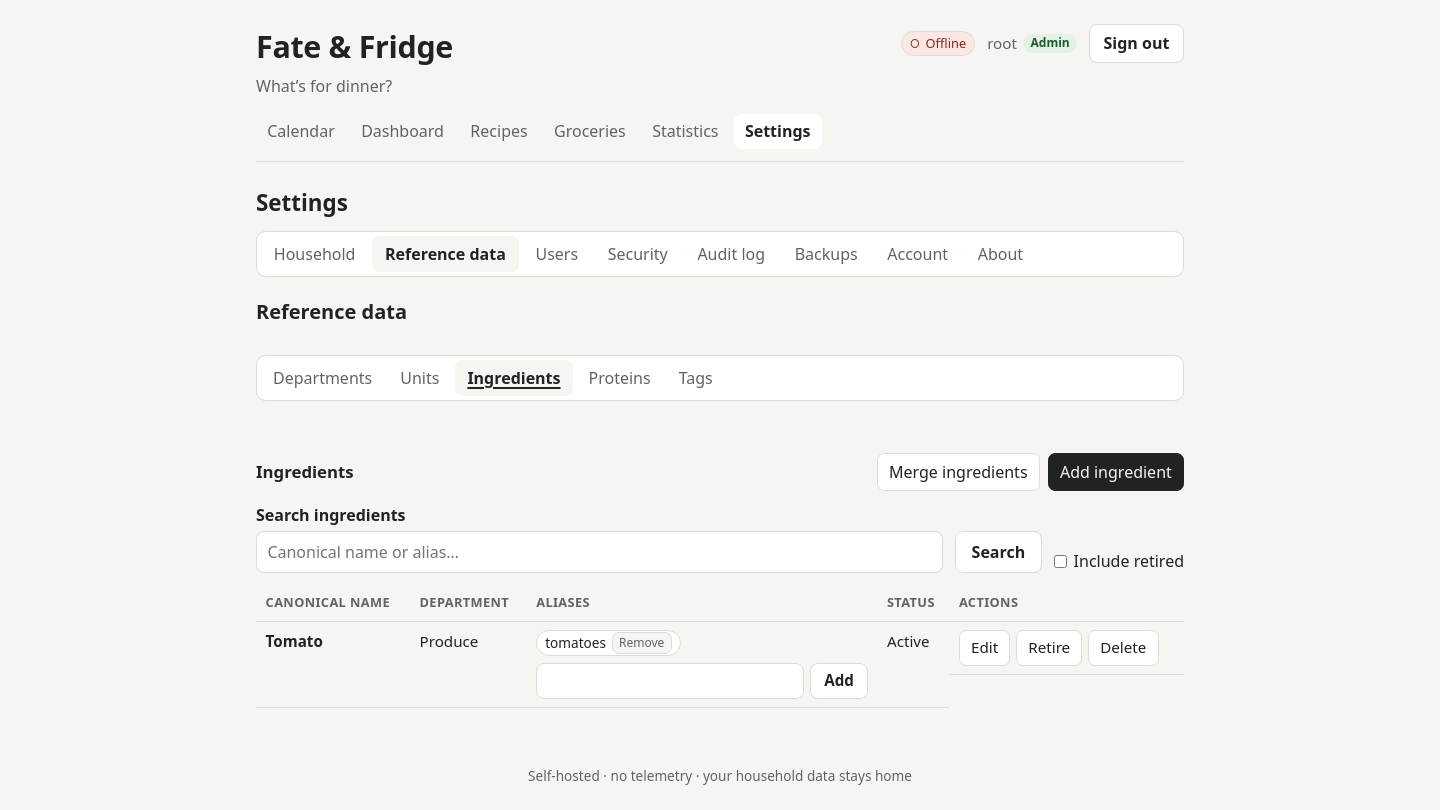
it: ingredients tab › renames and clears the department through PATCH with an explicit null
Click the button with aria-label "Edit Tomato" at (985, 648), box [959,630,1010,666]
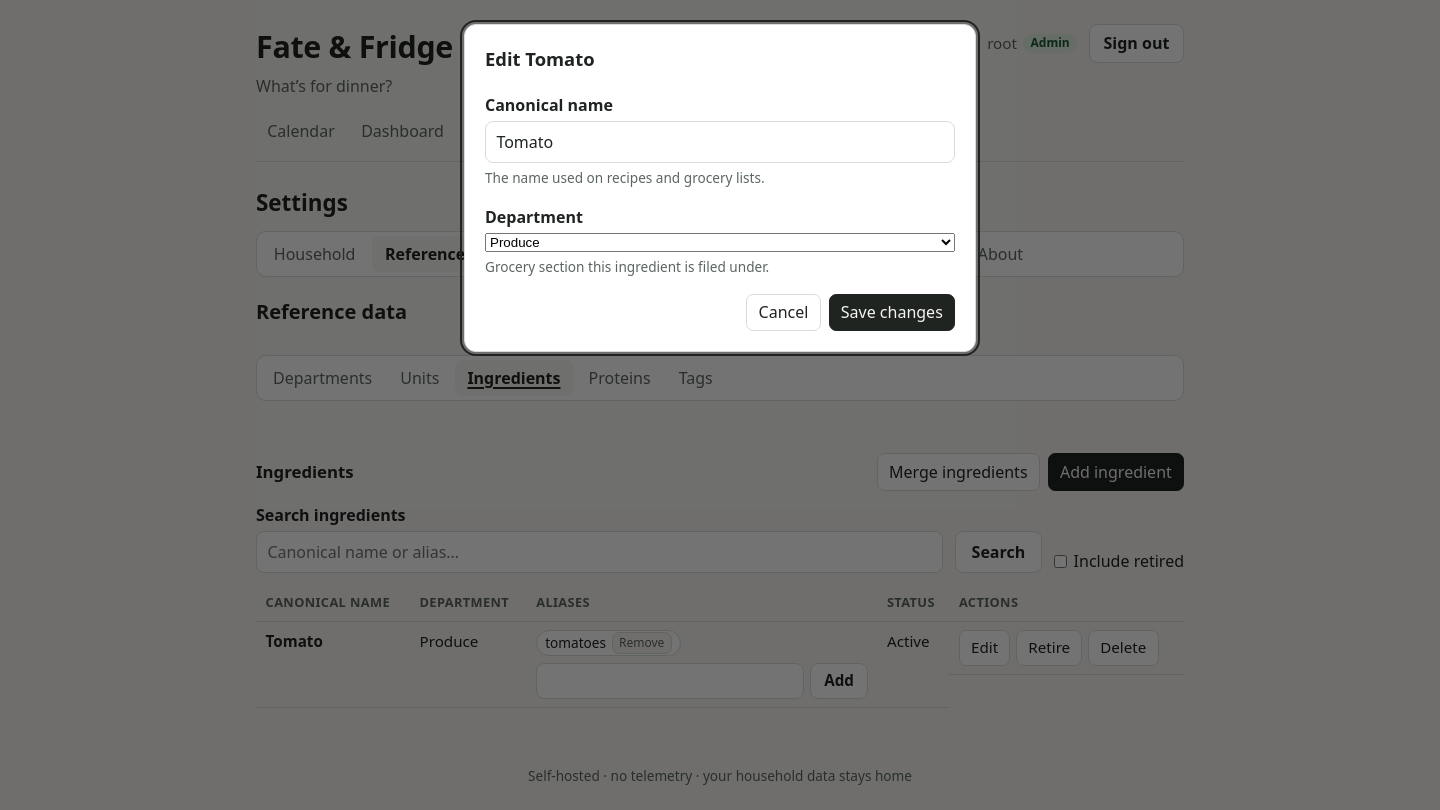
Expected: the dropdown labelled "Department" shows "Produce", [485,233,955,252]
Replace the text in the field labelled "Canonical name" with "Tomato, fresh" at (720, 142), box [485,121,955,163]
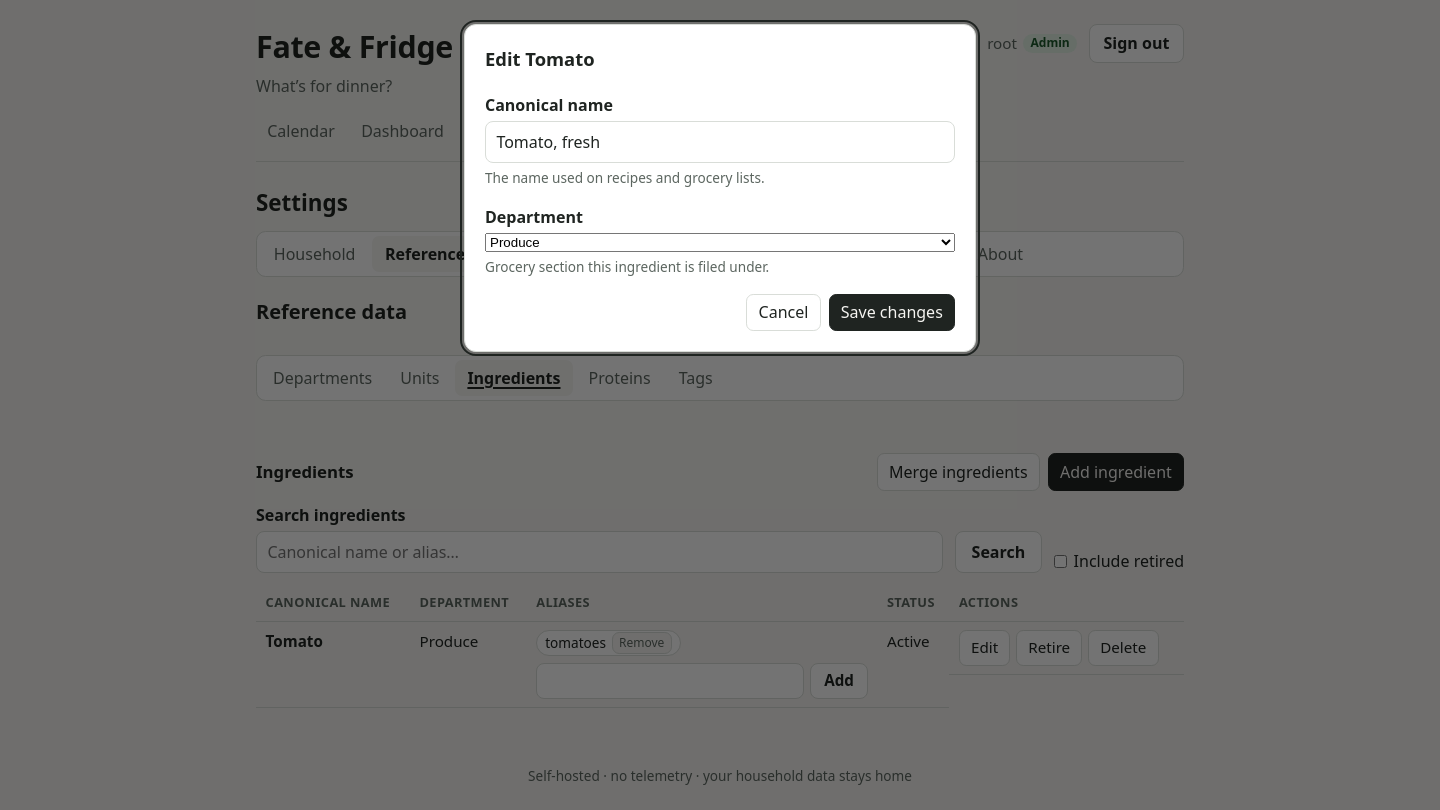
Select "No department" in the dropdown labelled "Department" at (720, 243), box [485,233,955,252]
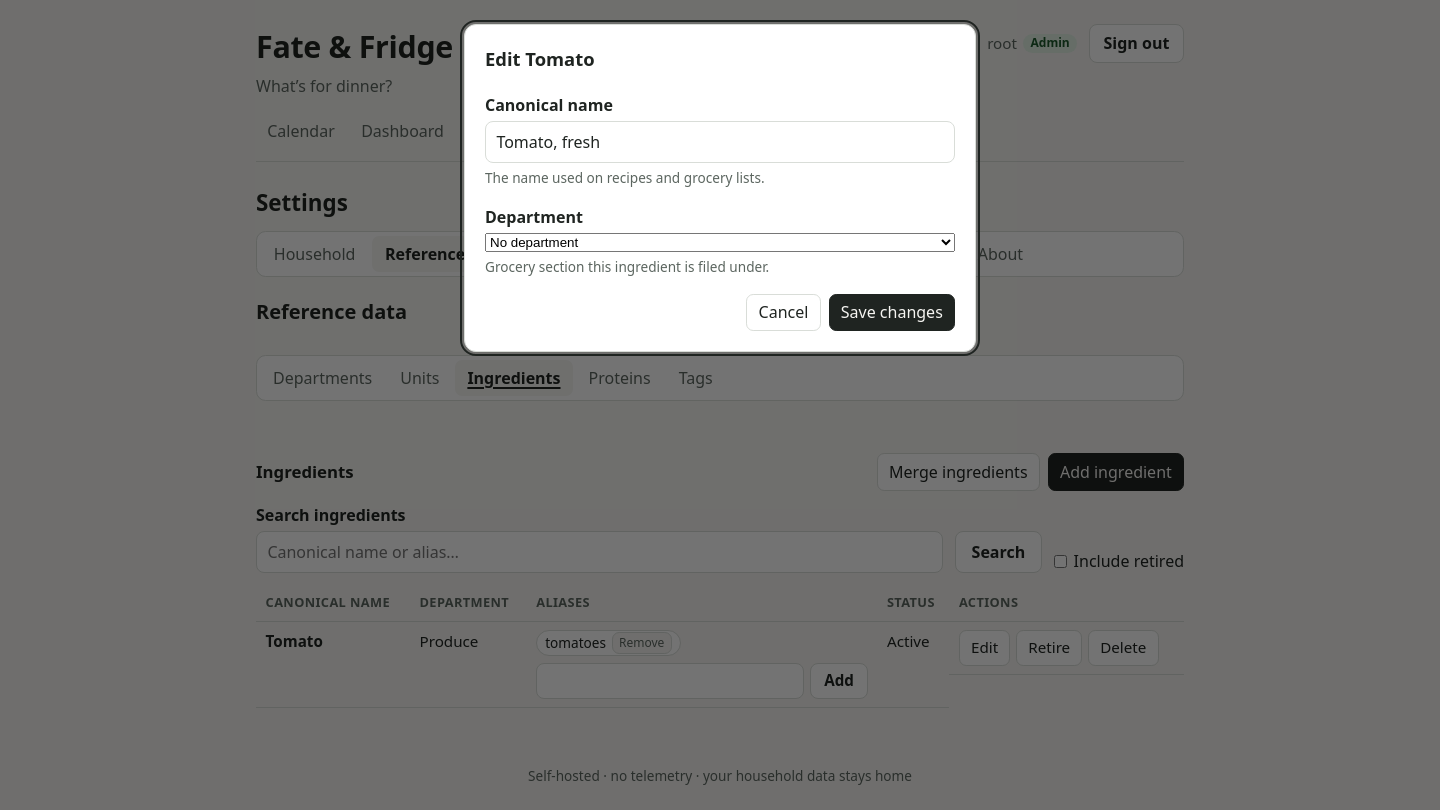
Click the button "Save changes" at (892, 312), box [829,294,955,331]
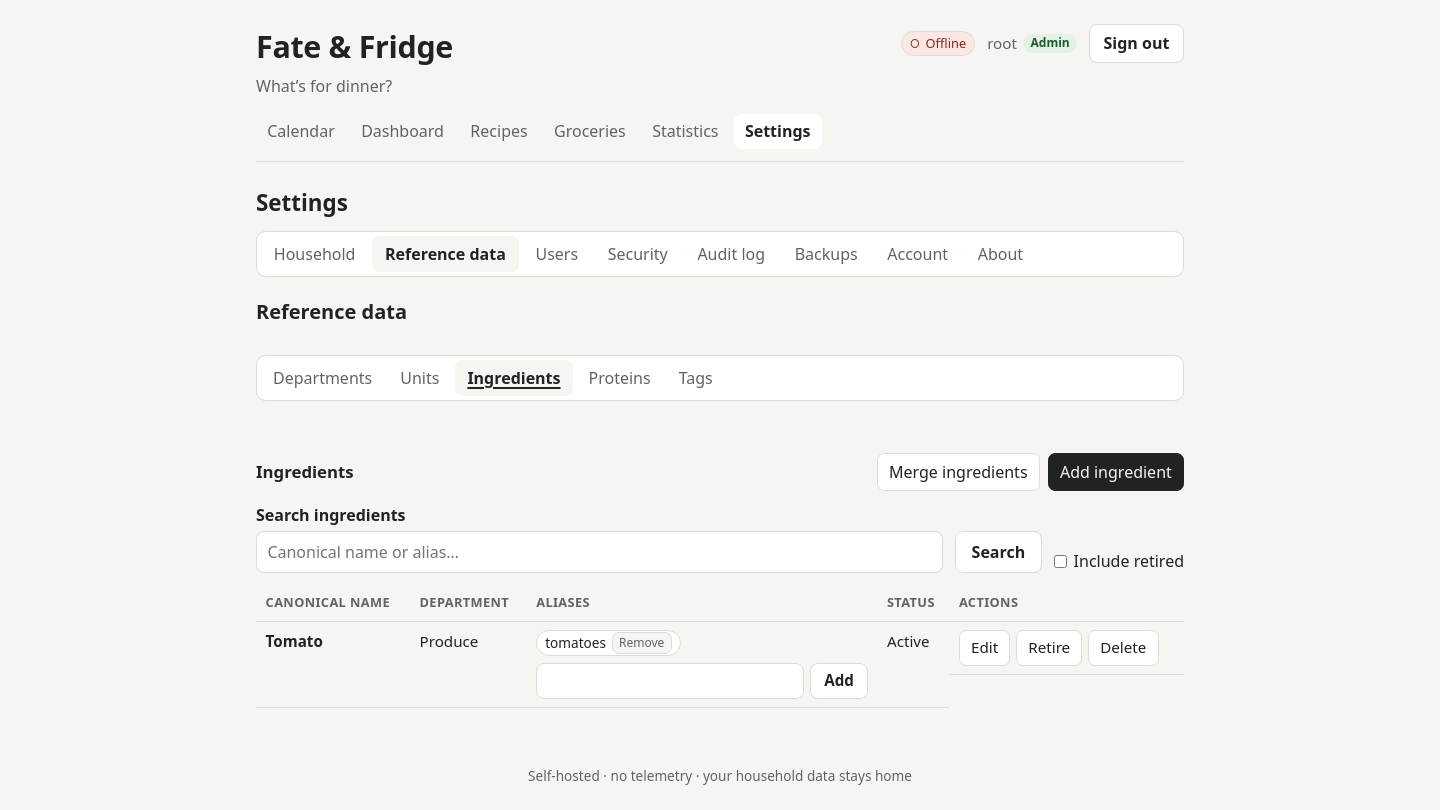
Expected: the dialog is gone
